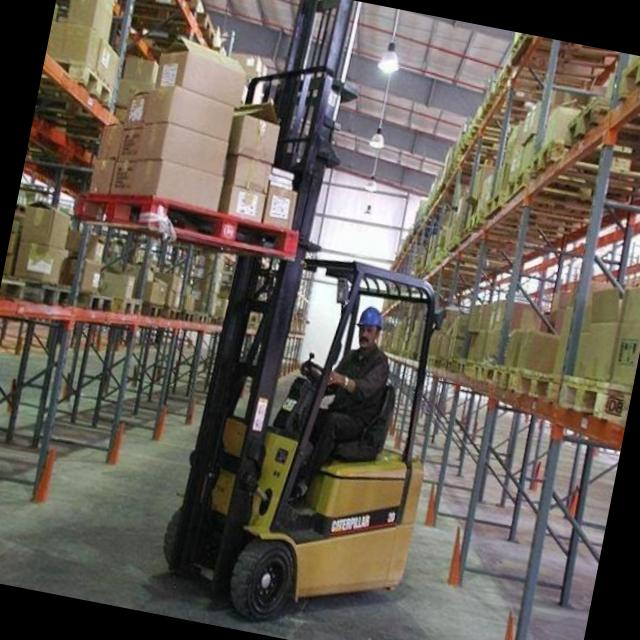driver: (292, 298, 410, 516)
forklift: (143, 197, 472, 640)
